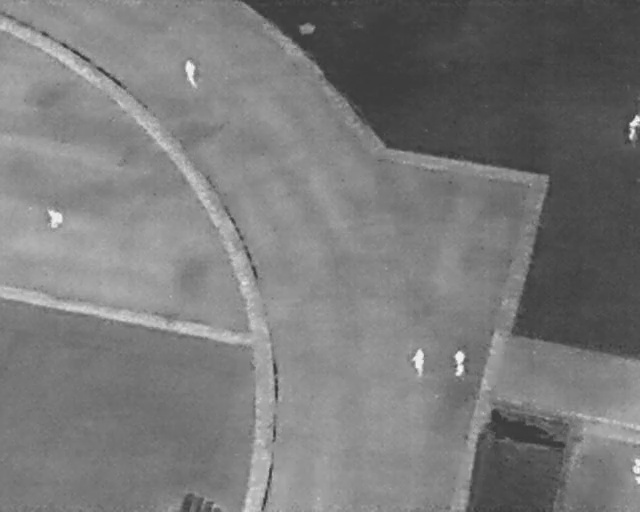DontCare: (630, 453, 639, 486)
Person: (453, 349, 466, 377), (412, 348, 425, 376), (47, 207, 63, 229), (184, 60, 196, 88), (629, 113, 640, 140)
